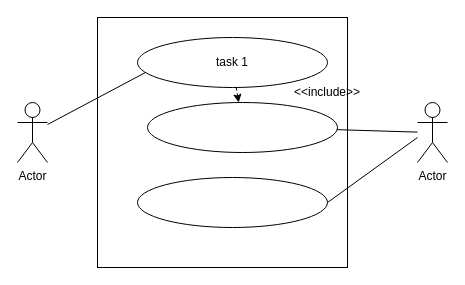
The diagram is 465 pixels wide and 285 high, and some of its shapes have lost their labels. Each missing label, with the centre of its shape:
task 2: the point at 242,127
task 3: the point at 232,202
